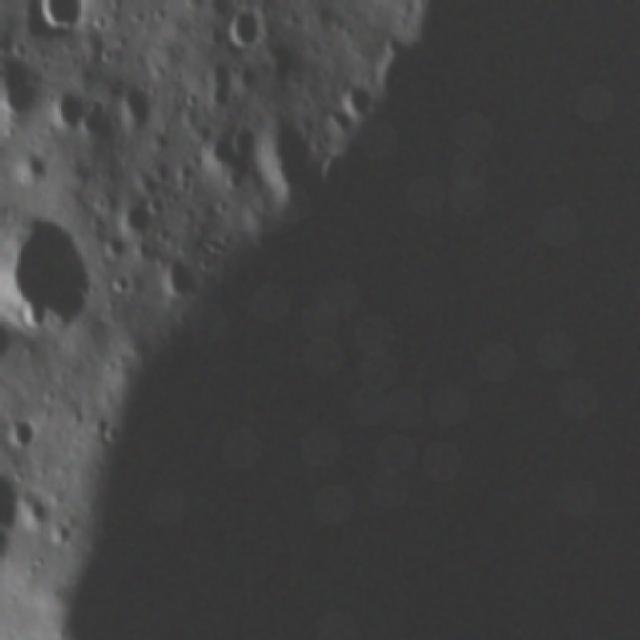crater: (0, 209, 105, 343), (0, 43, 60, 132), (198, 124, 259, 198), (218, 2, 270, 60), (157, 256, 206, 306), (26, 0, 92, 37), (0, 459, 28, 546), (113, 84, 155, 139), (332, 77, 372, 129), (115, 193, 153, 244), (49, 80, 82, 132), (12, 290, 52, 332), (4, 412, 38, 454), (0, 313, 18, 358)
